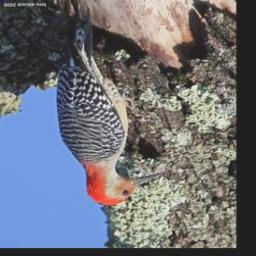Woodpecker: (54, 10, 161, 208)
